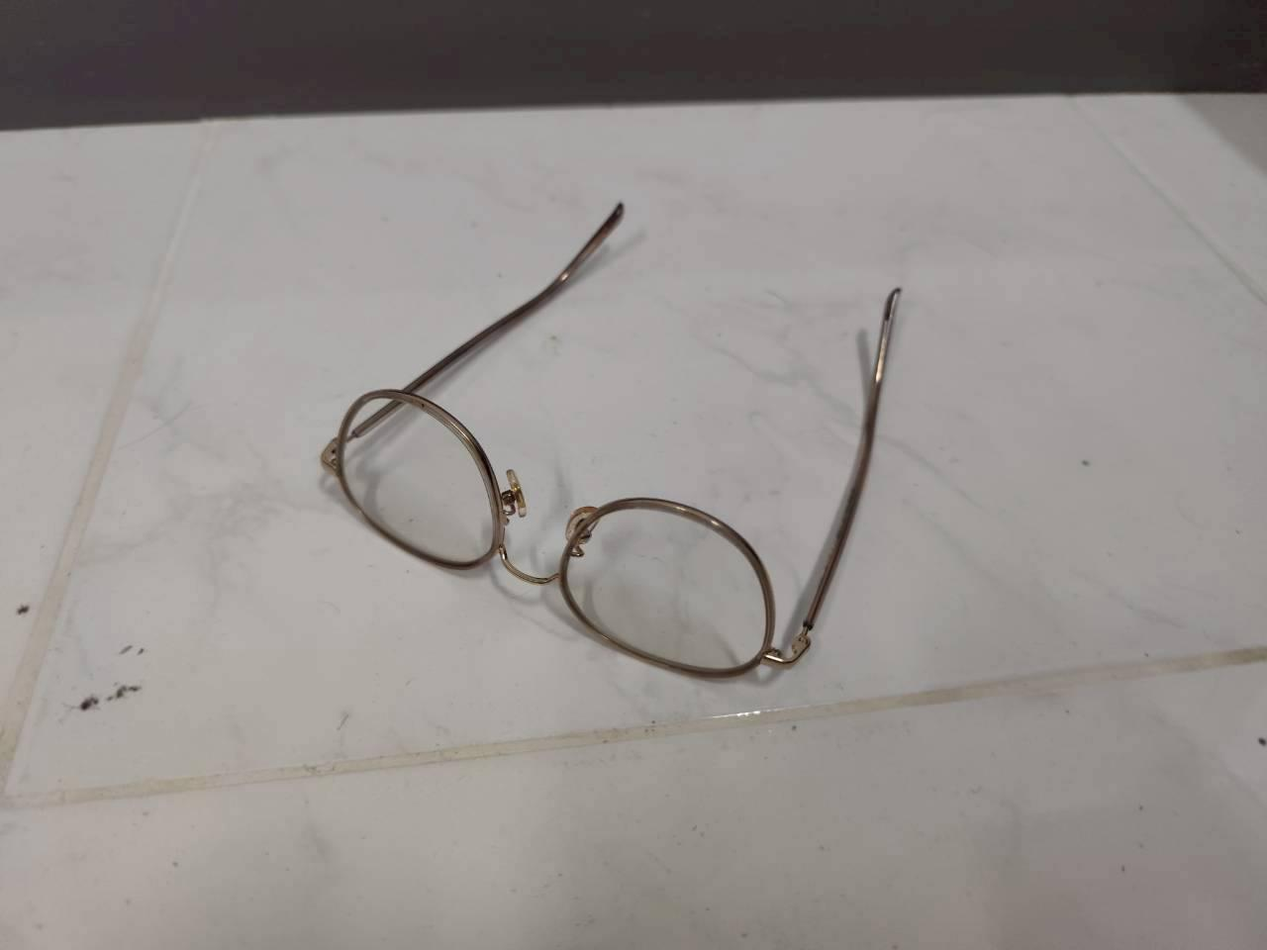glasses: (313, 198, 913, 694)
